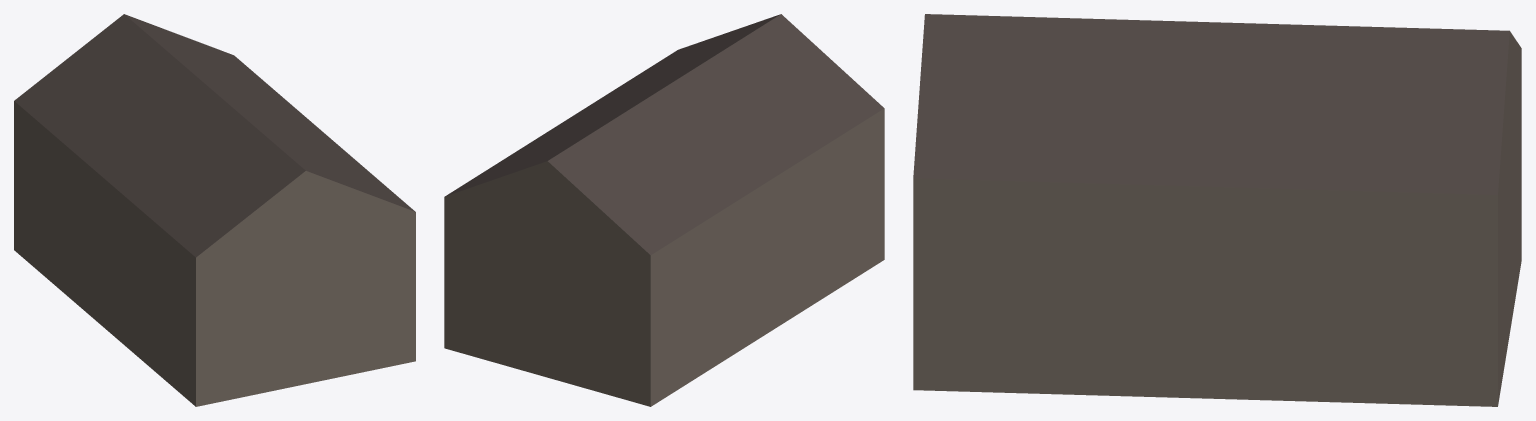
The picture shows the model from 3 angles, left to right: view 1: azimuth 30°, elevation 25°; view 2: azimuth 150°, elevation 25°; view 3: azimuth 270°, elevation 25°; orthographic projection. The views are drawn at different scales.
Visible parts, largest first — view 1: HP-w859447900; view 2: HP-w859447900; view 3: HP-w859447900.
Boxes of the visible parts, x1,y1,x2,y2 form: HP-w859447900: (14,14,415,406); HP-w859447900: (444,14,884,406); HP-w859447900: (913,14,1521,406).
Bounding box in the file's own units: 9.92 × 8.58 × 15.61.
